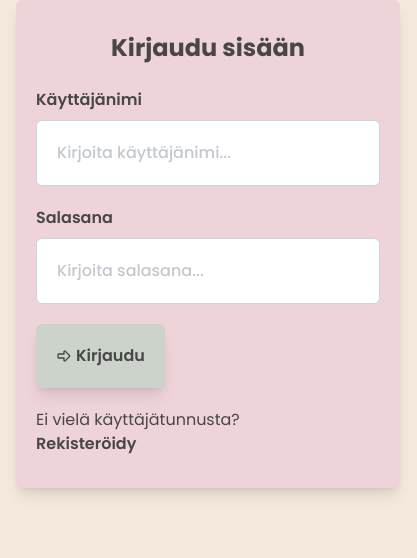
Test: LoginForm Component › handles successful login
Type "testuser" into the field labelled "Käyttäjänimi" at (208, 153), box [36,120,380,186]
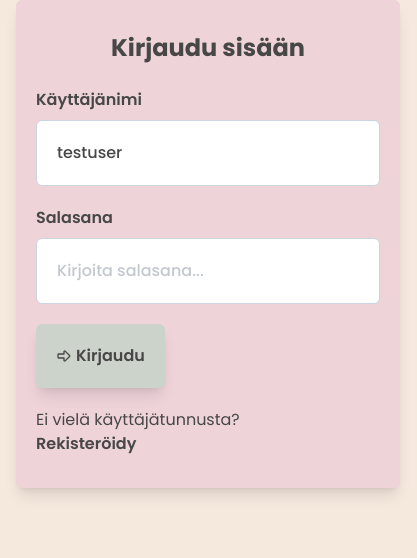
Type "password" into the password field labelled "Salasana" at (208, 271), box [36,238,380,304]
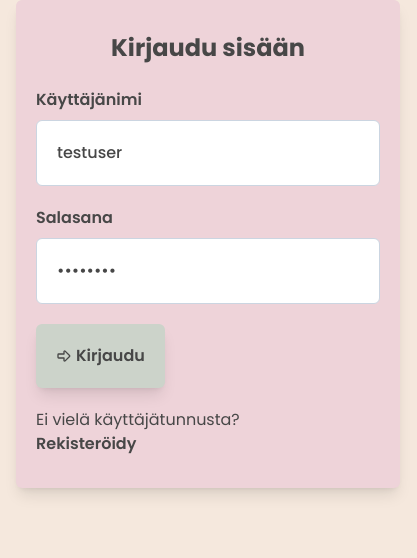
Click the button "Kirjaudu" at (100, 356), box [36,324,165,388]
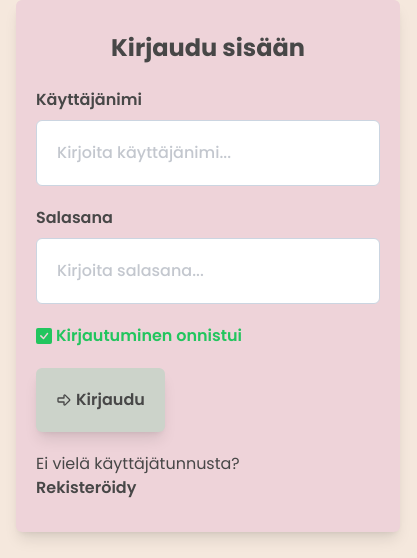
Check: the text "Kirjautuminen onnistui" is shown, box [36,324,242,347]
